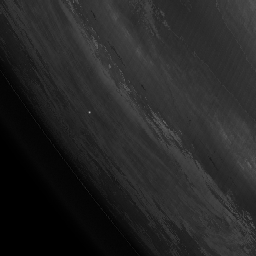Target: (86, 109, 91, 114)
